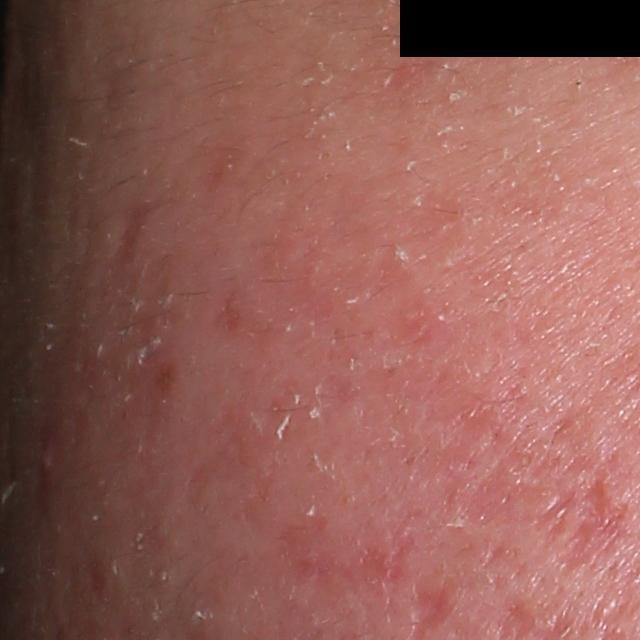atrophic_scar: (528, 453, 629, 577), (115, 196, 166, 270)
papule: (36, 440, 60, 485)
